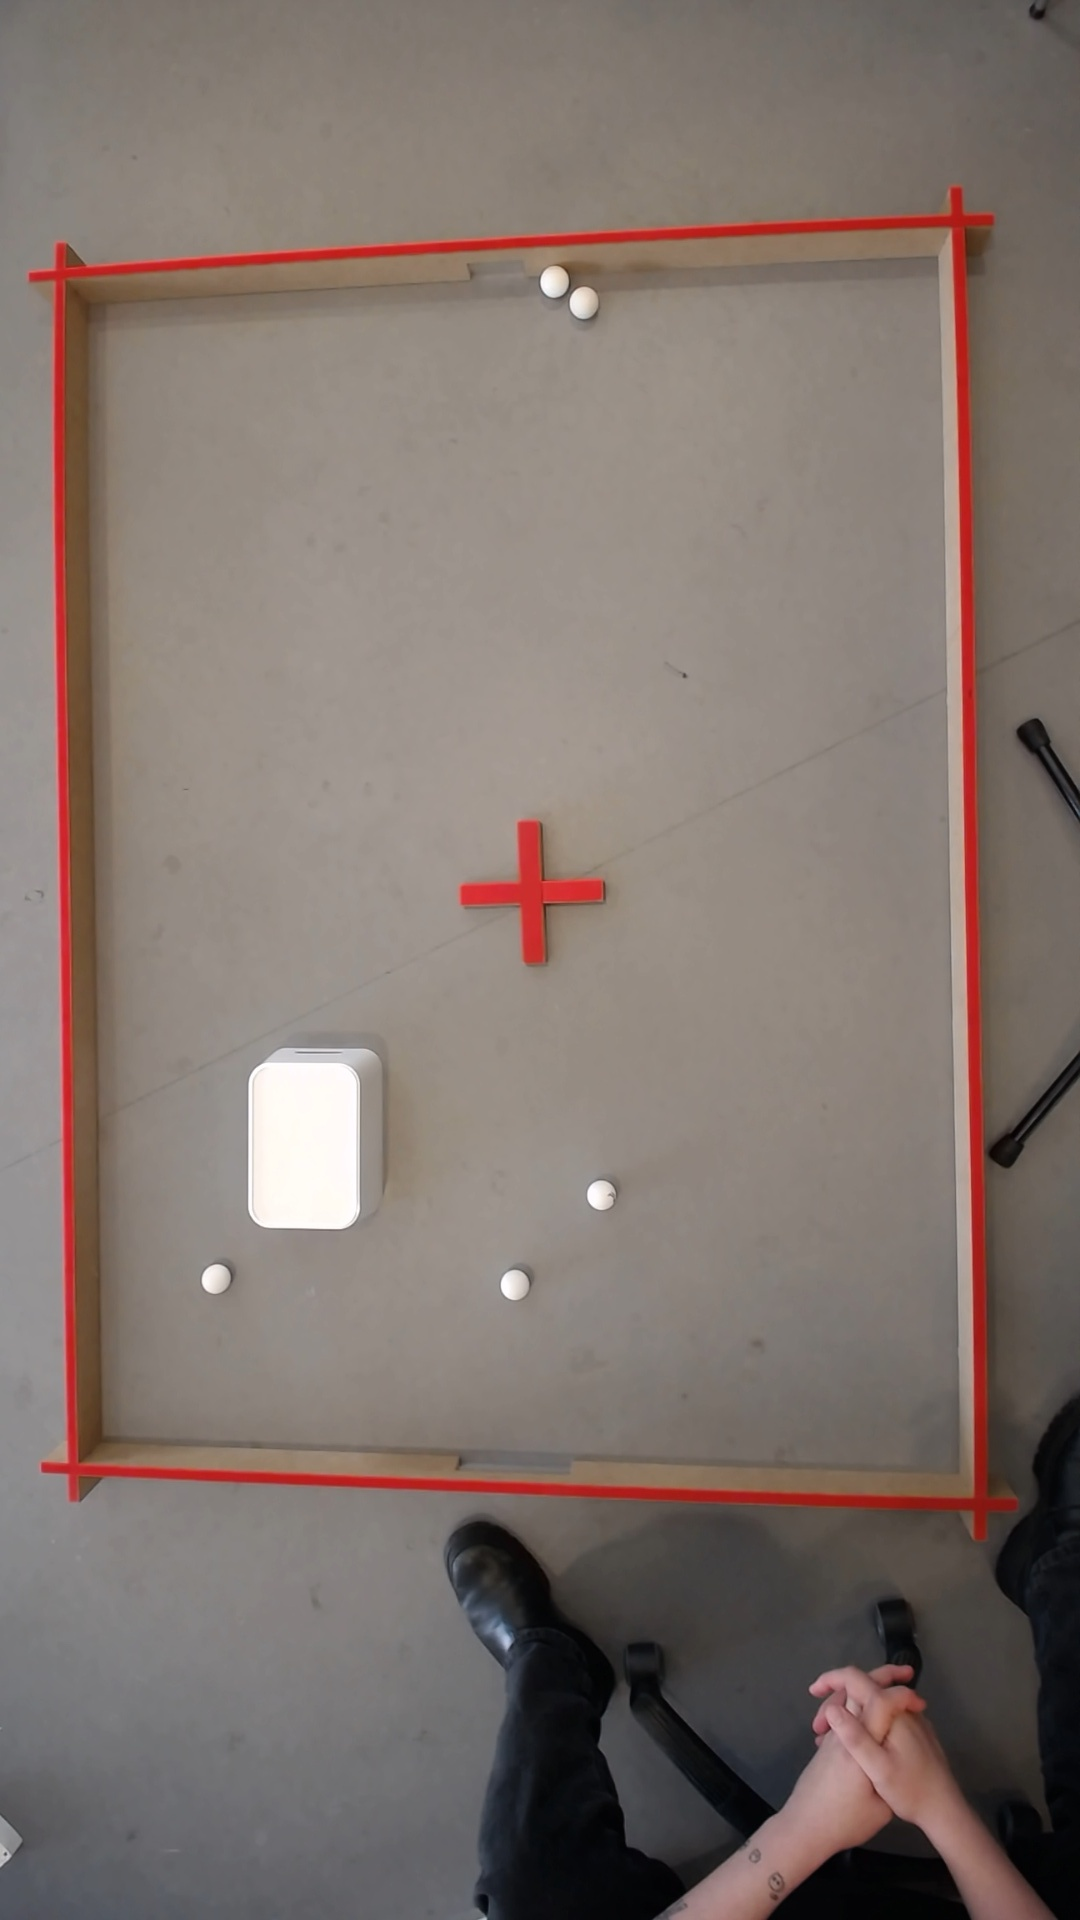balls: (248, 1062, 360, 1229), (582, 1176, 613, 1212), (495, 1266, 526, 1302), (196, 1259, 227, 1294), (539, 269, 562, 297)
car: (563, 285, 593, 318)
